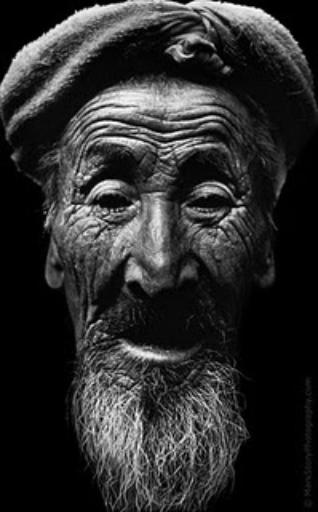left_eye: (185, 193, 233, 219)
right_eye: (88, 191, 136, 222)
